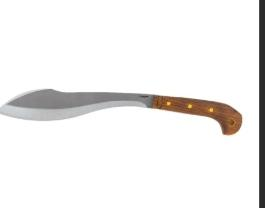MACHETTE: (0, 83, 255, 142)
